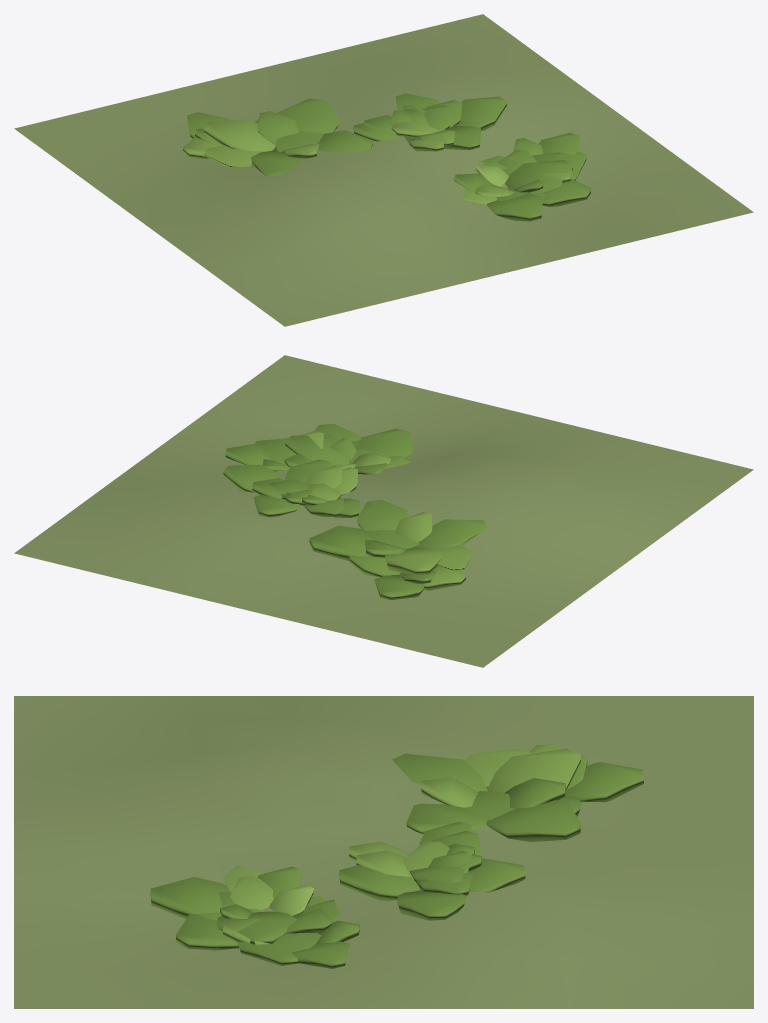
File: master_grass_lush_06.glb
The picture shows the model from 3 angles, top to bottom: view 1: azimuth 30°, elevation 25°; view 2: azimuth 150°, elevation 25°; view 3: azimuth 270°, elevation 25°; orthographic projection. The views are drawn at different scales.
Parts seen in each view (by area): view 1: master_grass_lush_06; view 2: master_grass_lush_06; view 3: master_grass_lush_06.
Part boxes in pixels (x1=…): master_grass_lush_06: x1=14, y1=14, x2=753, y2=326; master_grass_lush_06: x1=14, y1=355, x2=753, y2=667; master_grass_lush_06: x1=14, y1=696, x2=753, y2=1008.
Size of the model in its own units: 1.35 by 0.1144 by 1.35.
